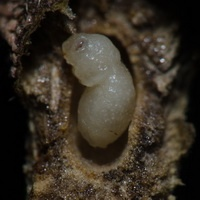insect: (61, 31, 136, 148), (62, 33, 135, 147)
